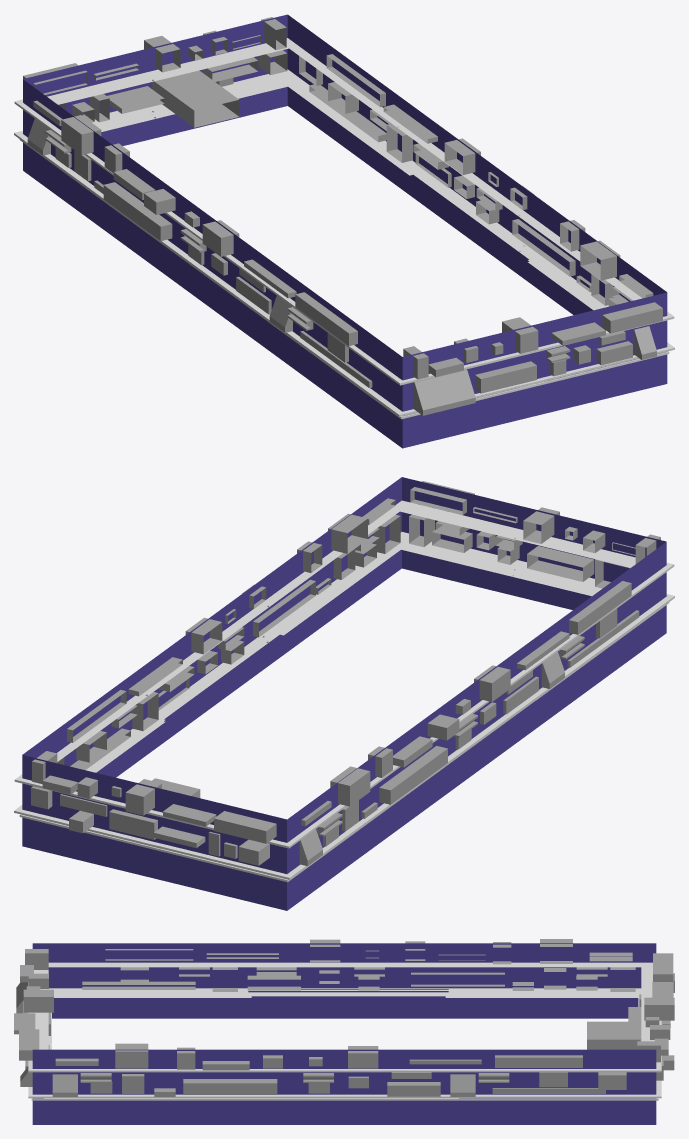
The model's file is edificio_VF.fbx.
3 renders of one model, top to bottom at view 1: azimuth 30°, elevation 25°; view 2: azimuth 150°, elevation 25°; view 3: azimuth 270°, elevation 25°, orthographic. The views are drawn at different scales.
Visible parts, largest first — view 1: pasted__a_pasted__pasted__group20_pasted__pasted__pasted__pC; view 2: pasted__a_pasted__pasted__group20_pasted__pasted__pasted__pC; view 3: pasted__a_pasted__pasted__group20_pasted__pasted__pasted__pC.
Part boxes in pixels (box(x1,y1,x2,y2)): pasted__a_pasted__pasted__group20_pasted__pasted__pasted__pC: box(14, 14, 674, 448); pasted__a_pasted__pasted__group20_pasted__pasted__pasted__pC: box(14, 477, 674, 910); pasted__a_pasted__pasted__group20_pasted__pasted__pasted__pC: box(14, 939, 674, 1124).
Bounding box in the file's own units: 3.03 × 0.8991 × 7.17.
